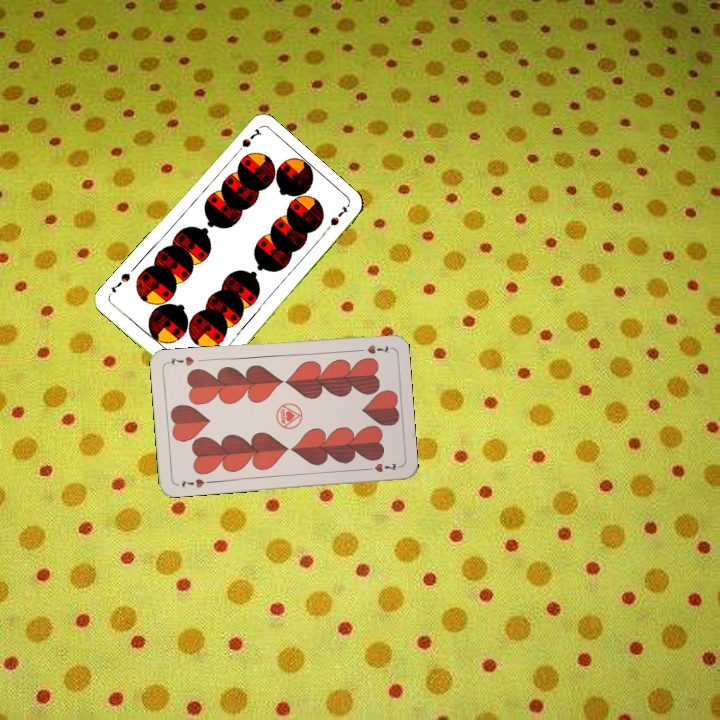H7: (352, 341, 391, 357), (177, 474, 214, 490)
S7: (231, 125, 264, 158)
